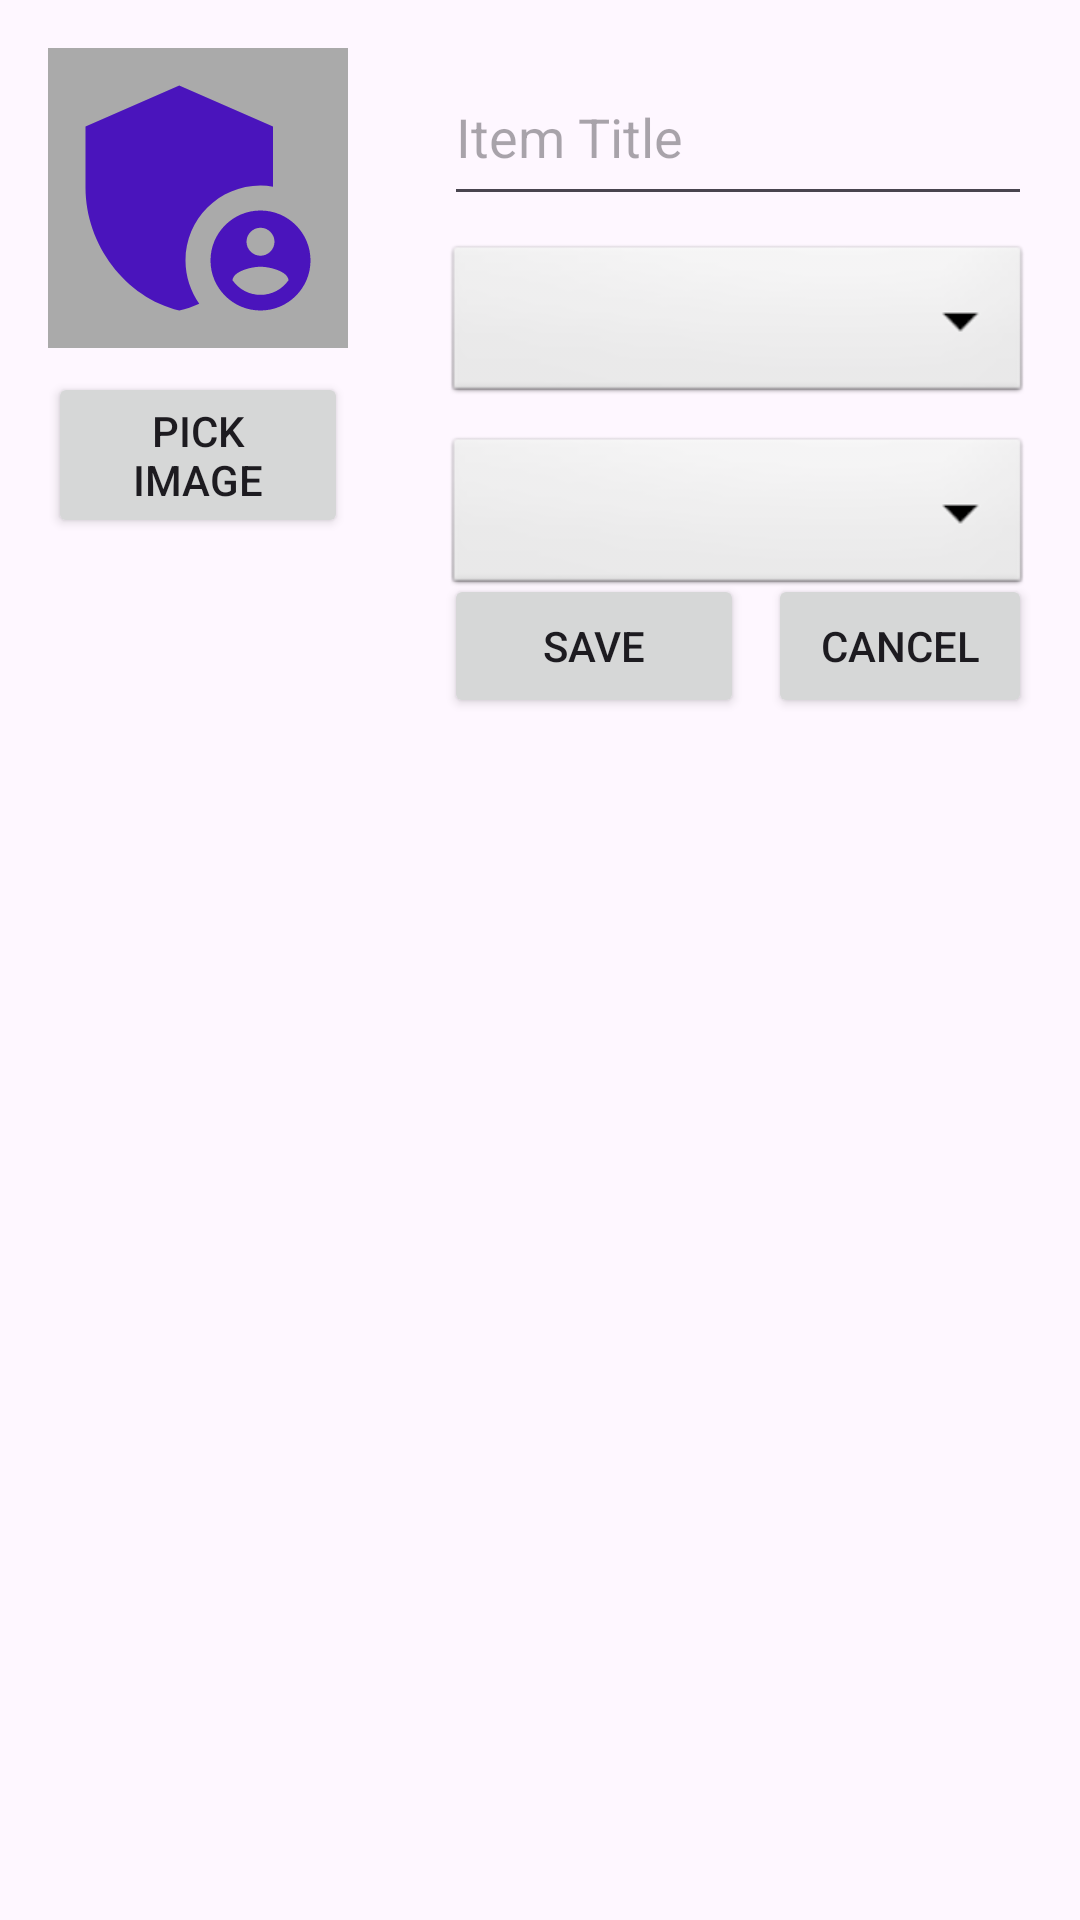

Where icons sit on this 1080 × 1920 app screen, as [x1,y1,x2,y2]:
admin: [48,48,348,348]
